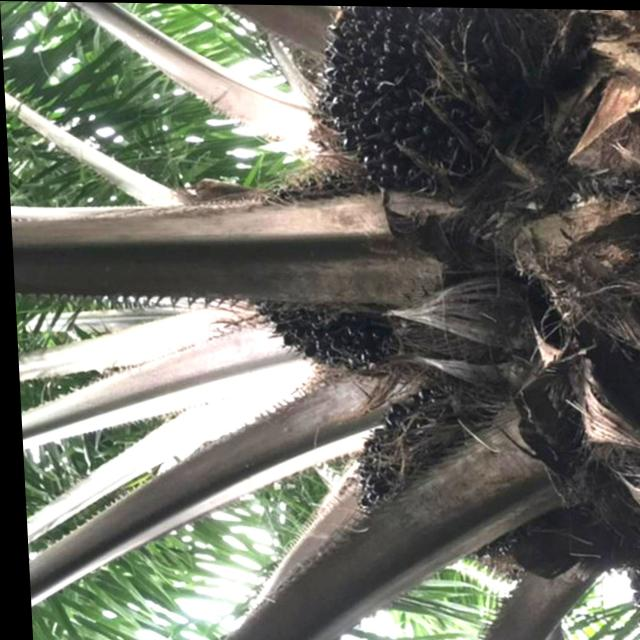unripe: (304, 4, 563, 186), (220, 172, 392, 368), (346, 383, 515, 535)
